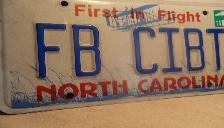B: (70, 22, 103, 78), (182, 26, 206, 73)
C: (131, 24, 159, 76)
F: (30, 21, 68, 80)
I: (158, 27, 184, 74)
T: (158, 27, 184, 73), (206, 28, 224, 72)
